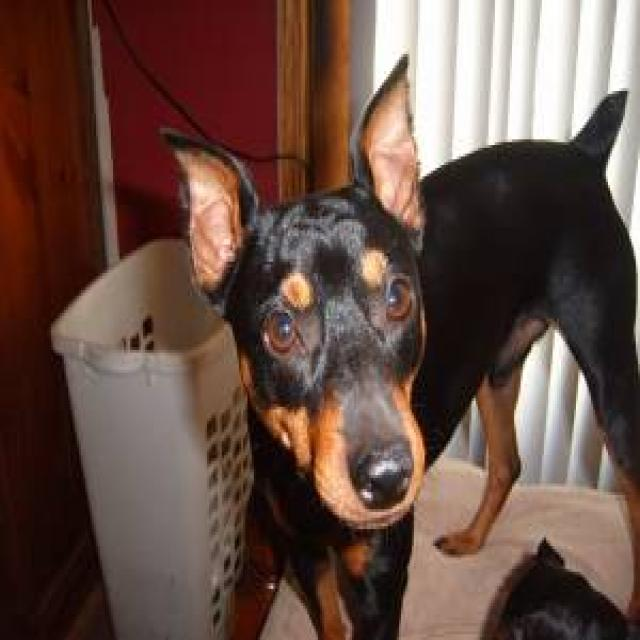dog-miniature_pinscher: (160, 43, 636, 634)
